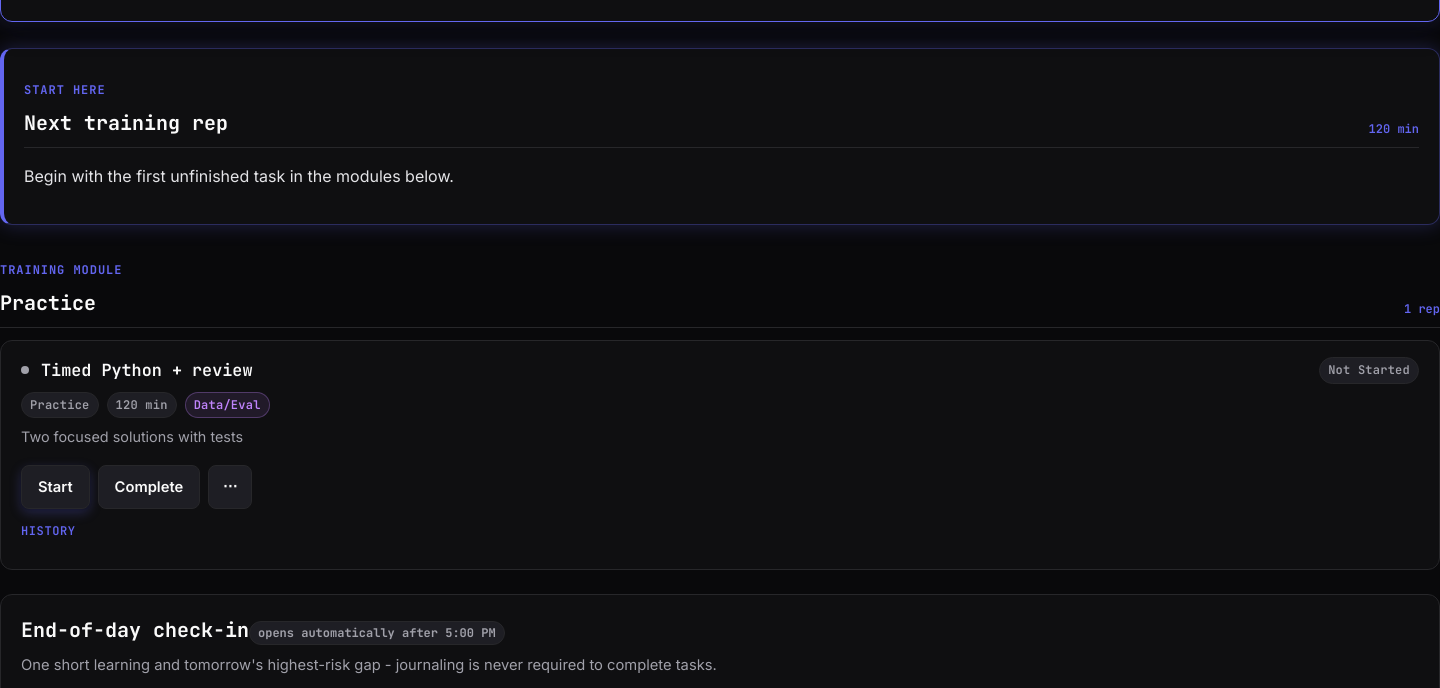
it: TodayView › rejects non-HTTPS evidence client-side with a visible message
(page scrolled)
Expected: the heading "Timed Python + review" is shown, x1=41 y1=359 x2=252 y2=381
Click the button "Complete".
click(149, 486)  # box x1=98 y1=464 x2=200 y2=508
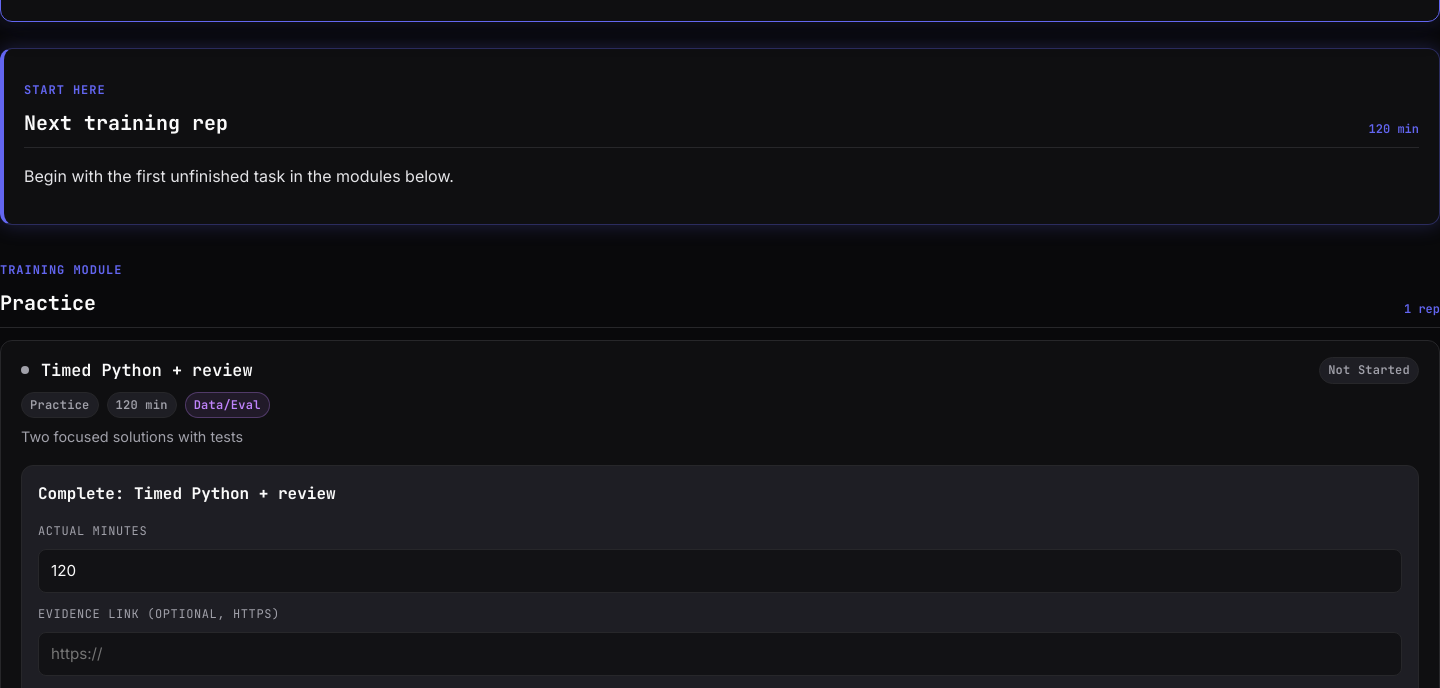
Type "http://insecure.example/x" into the field labelled "Evidence link (optional, HTTPS)".
click(720, 654); type("http://insecure.example/x")  # box x1=38 y1=632 x2=1402 y2=676
(page scrolled)
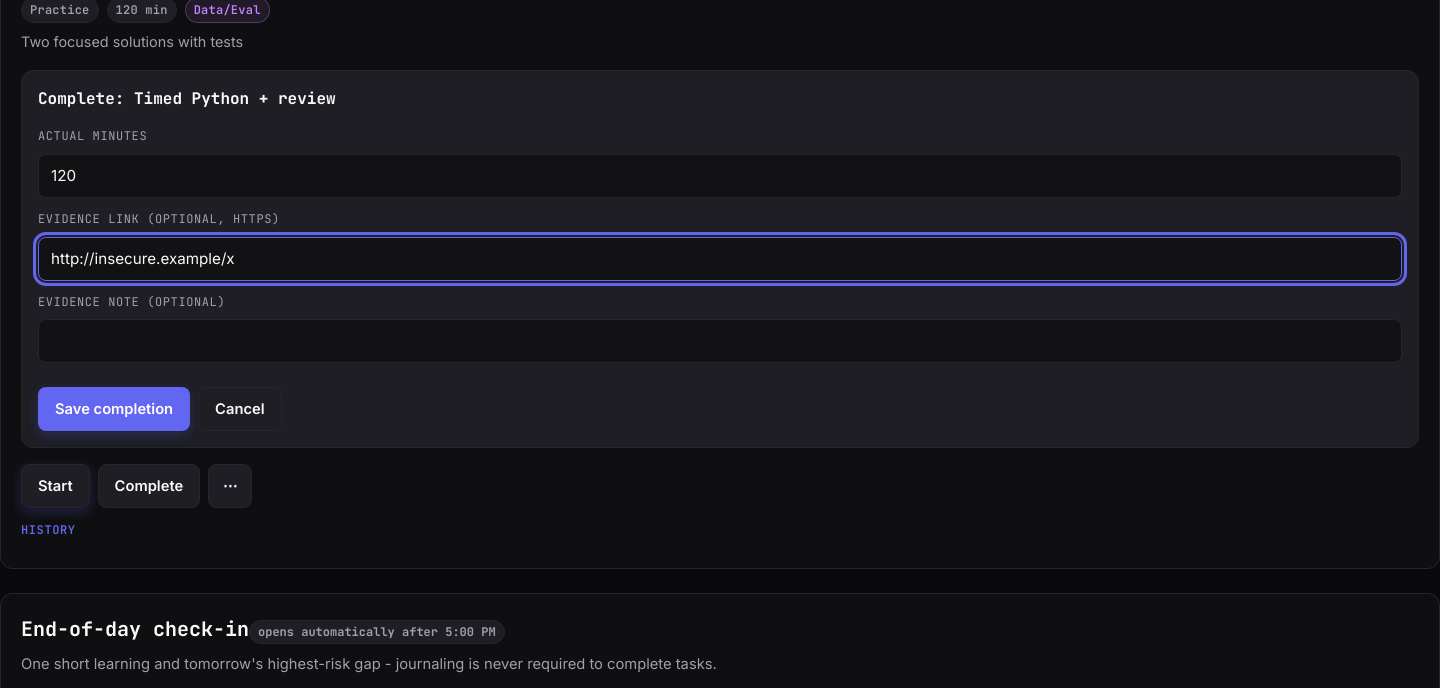
Click the button "Save completion".
click(114, 409)  # box x1=38 y1=387 x2=190 y2=431
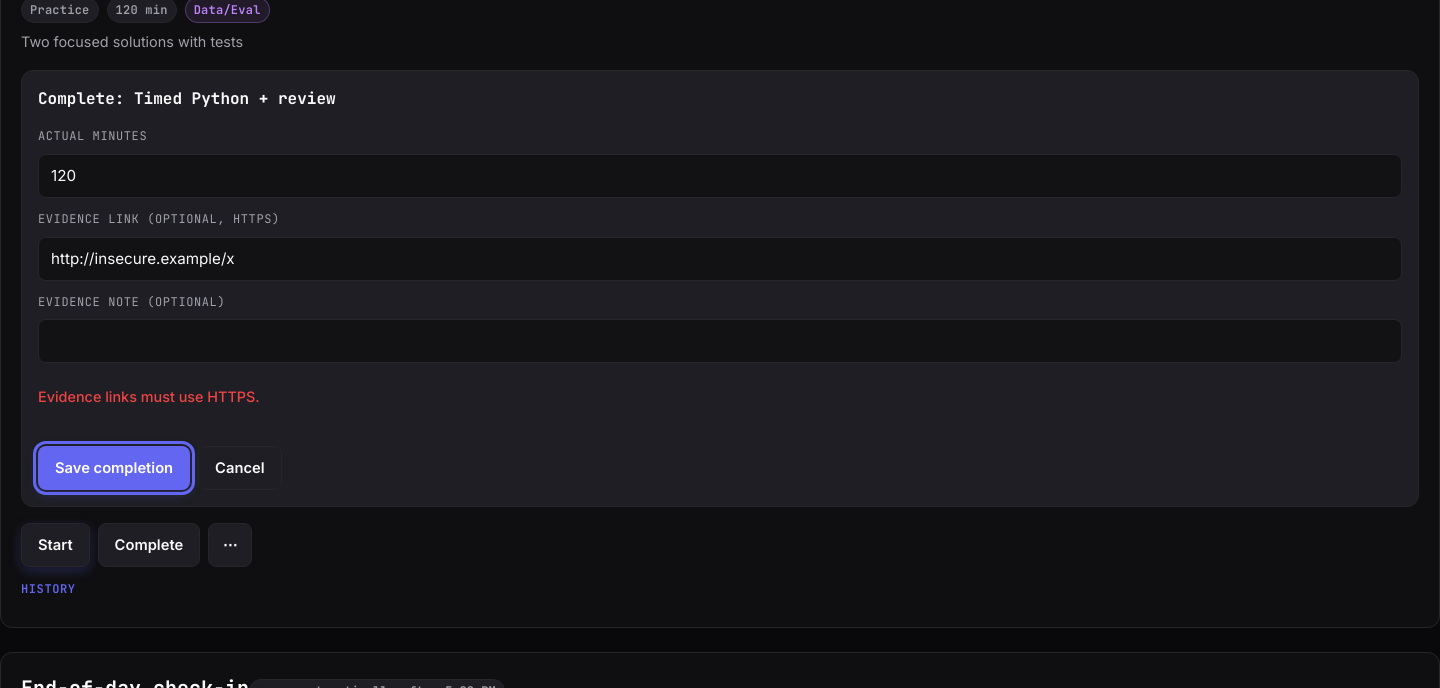
Expected: the text "Evidence links must use HTTPS." is shown, x1=38 y1=388 x2=260 y2=404
